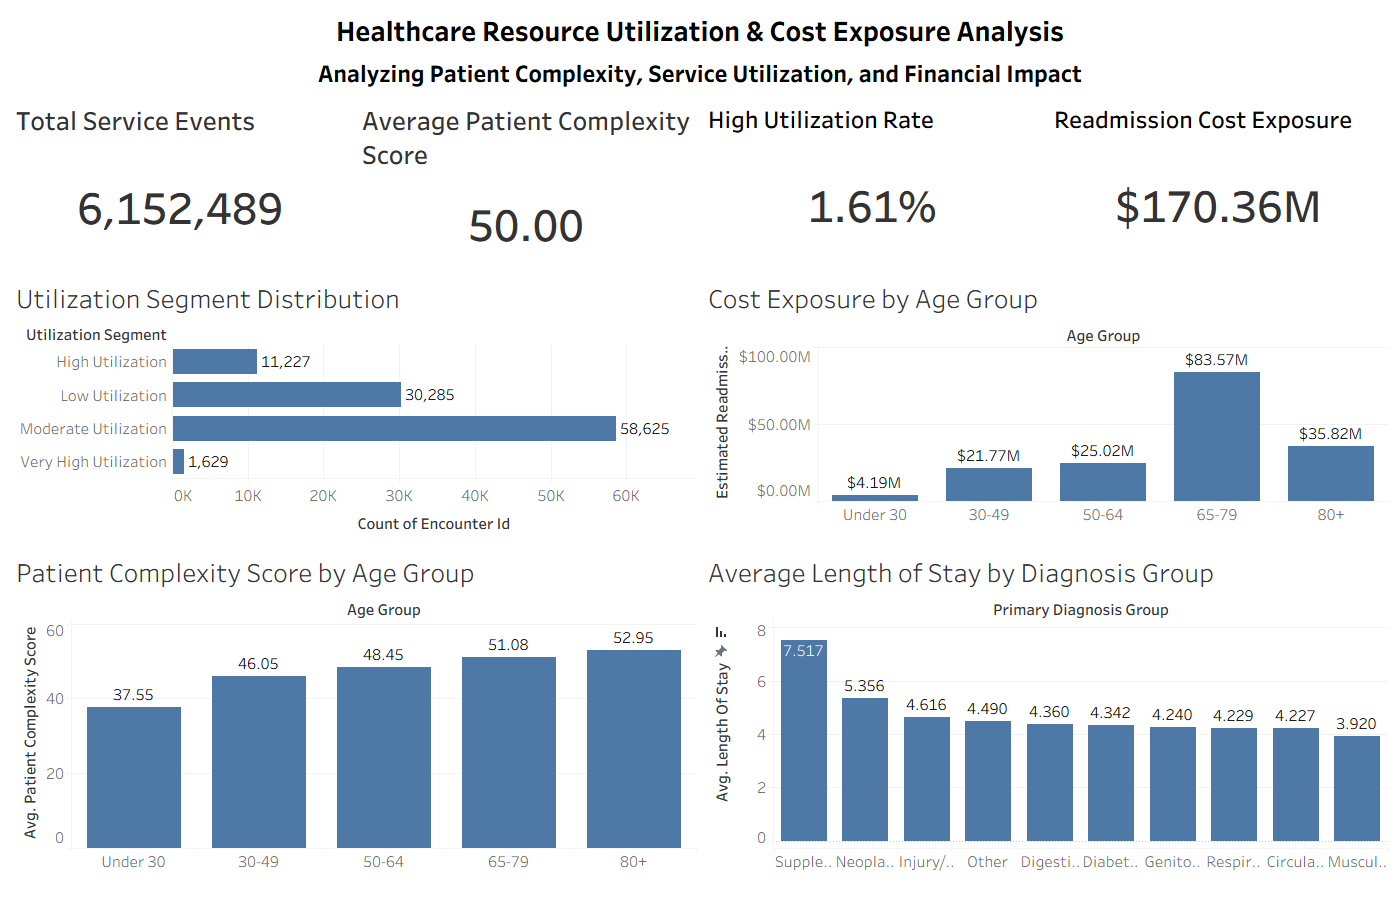

What the dashboard file says about the page in this screenshot:
{"tool":"tableau","page":{"name":"Healthcare Resource Utilization & Cost Exposure Analysis","canvas":[1400,900],"ordinal":2},"visuals":[{"type":"text","box":[8,8,1384,45]},{"type":"text","box":[8,53,1384,40]},{"type":"worksheet","title":"KPI - Total Service Events","mark":"Automatic","box":[8,93,346,178]},{"type":"worksheet","title":"KPI - Average Patient Complexity Score","mark":"Automatic","box":[354,93,346,178]},{"type":"worksheet","title":"KPI - High Utilization Rate","mark":"Automatic","box":[700,93,346,178]},{"type":"worksheet","title":"KPI - Estimated Readmission Cost Exposure","mark":"Automatic","box":[1046,93,346,178]},{"type":"worksheet","title":"Utilization Segment Distribution","mark":"Automatic","rows":["utilization_segment"],"cols":["encounter_id"],"box":[8,271,692,274]},{"type":"worksheet","title":"Cost Exposure by Age Group","mark":"Automatic","rows":["estimated_readmission_cost_exposure"],"cols":["age_group"],"box":[700,271,692,274]},{"type":"worksheet","title":"Patient Complexity Score by Age Group","mark":"Automatic","rows":["patient_complexity_score"],"cols":["age_group"],"box":[8,545,692,347]},{"type":"worksheet","title":"Average Length of Stay by Diagnosis Group","mark":"Automatic","rows":["length_of_stay"],"cols":["primary_diagnosis_group"],"box":[700,545,692,347]}]}

Visuals, with their boxes in screenshot pixels (x1, y1, x2, y2), scaled from the page's 1400x900 canvas onto the 1400x900 screenshot:
text: {"left": 8, "top": 8, "right": 1392, "bottom": 53}
text: {"left": 8, "top": 53, "right": 1392, "bottom": 93}
"KPI - Total Service Events" worksheet: {"left": 8, "top": 93, "right": 354, "bottom": 271}
"KPI - Average Patient Complexity Score" worksheet: {"left": 354, "top": 93, "right": 700, "bottom": 271}
"KPI - High Utilization Rate" worksheet: {"left": 700, "top": 93, "right": 1046, "bottom": 271}
"KPI - Estimated Readmission Cost Exposure" worksheet: {"left": 1046, "top": 93, "right": 1392, "bottom": 271}
"Utilization Segment Distribution" worksheet: {"left": 8, "top": 271, "right": 700, "bottom": 545}
"Cost Exposure by Age Group" worksheet: {"left": 700, "top": 271, "right": 1392, "bottom": 545}
"Patient Complexity Score by Age Group" worksheet: {"left": 8, "top": 545, "right": 700, "bottom": 892}
"Average Length of Stay by Diagnosis Group" worksheet: {"left": 700, "top": 545, "right": 1392, "bottom": 892}
